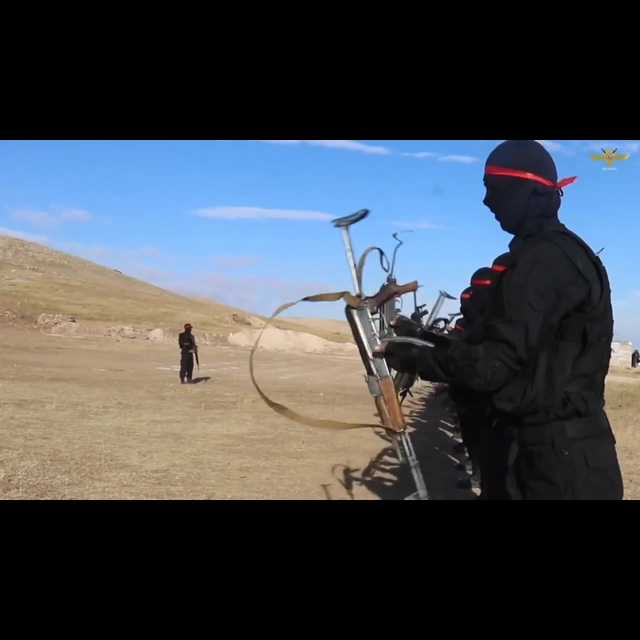AK47: (336, 290, 428, 500)
